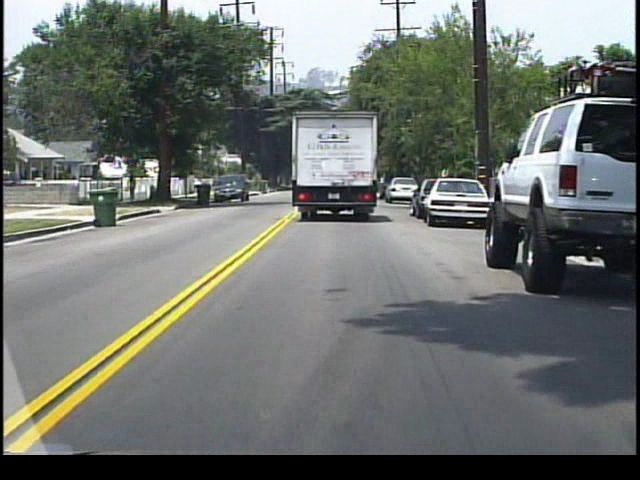person: (129, 173, 139, 203)
